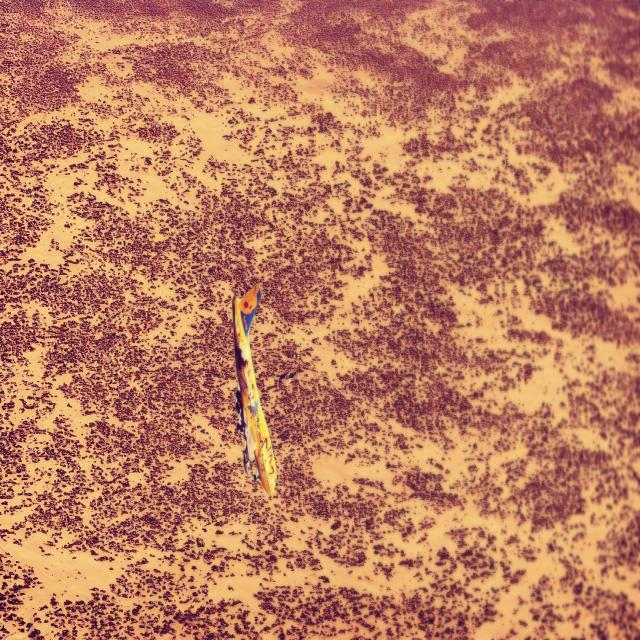airplane: (232, 283, 277, 497)
